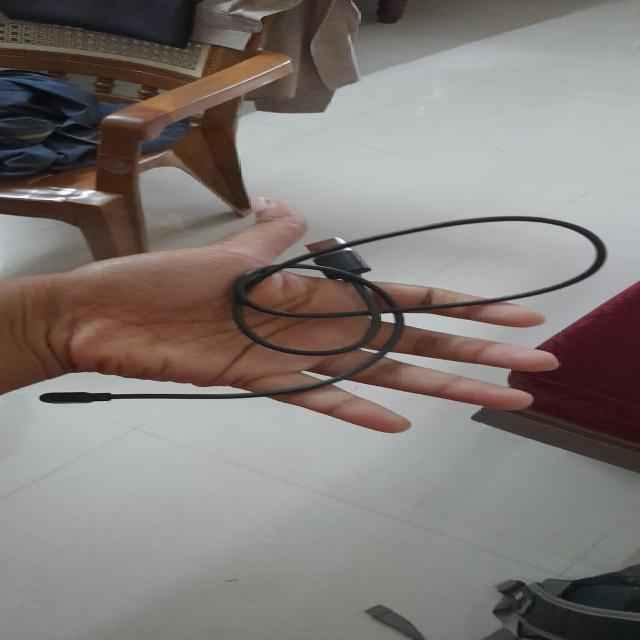Charger - Recyclable: (0, 205, 615, 431)
